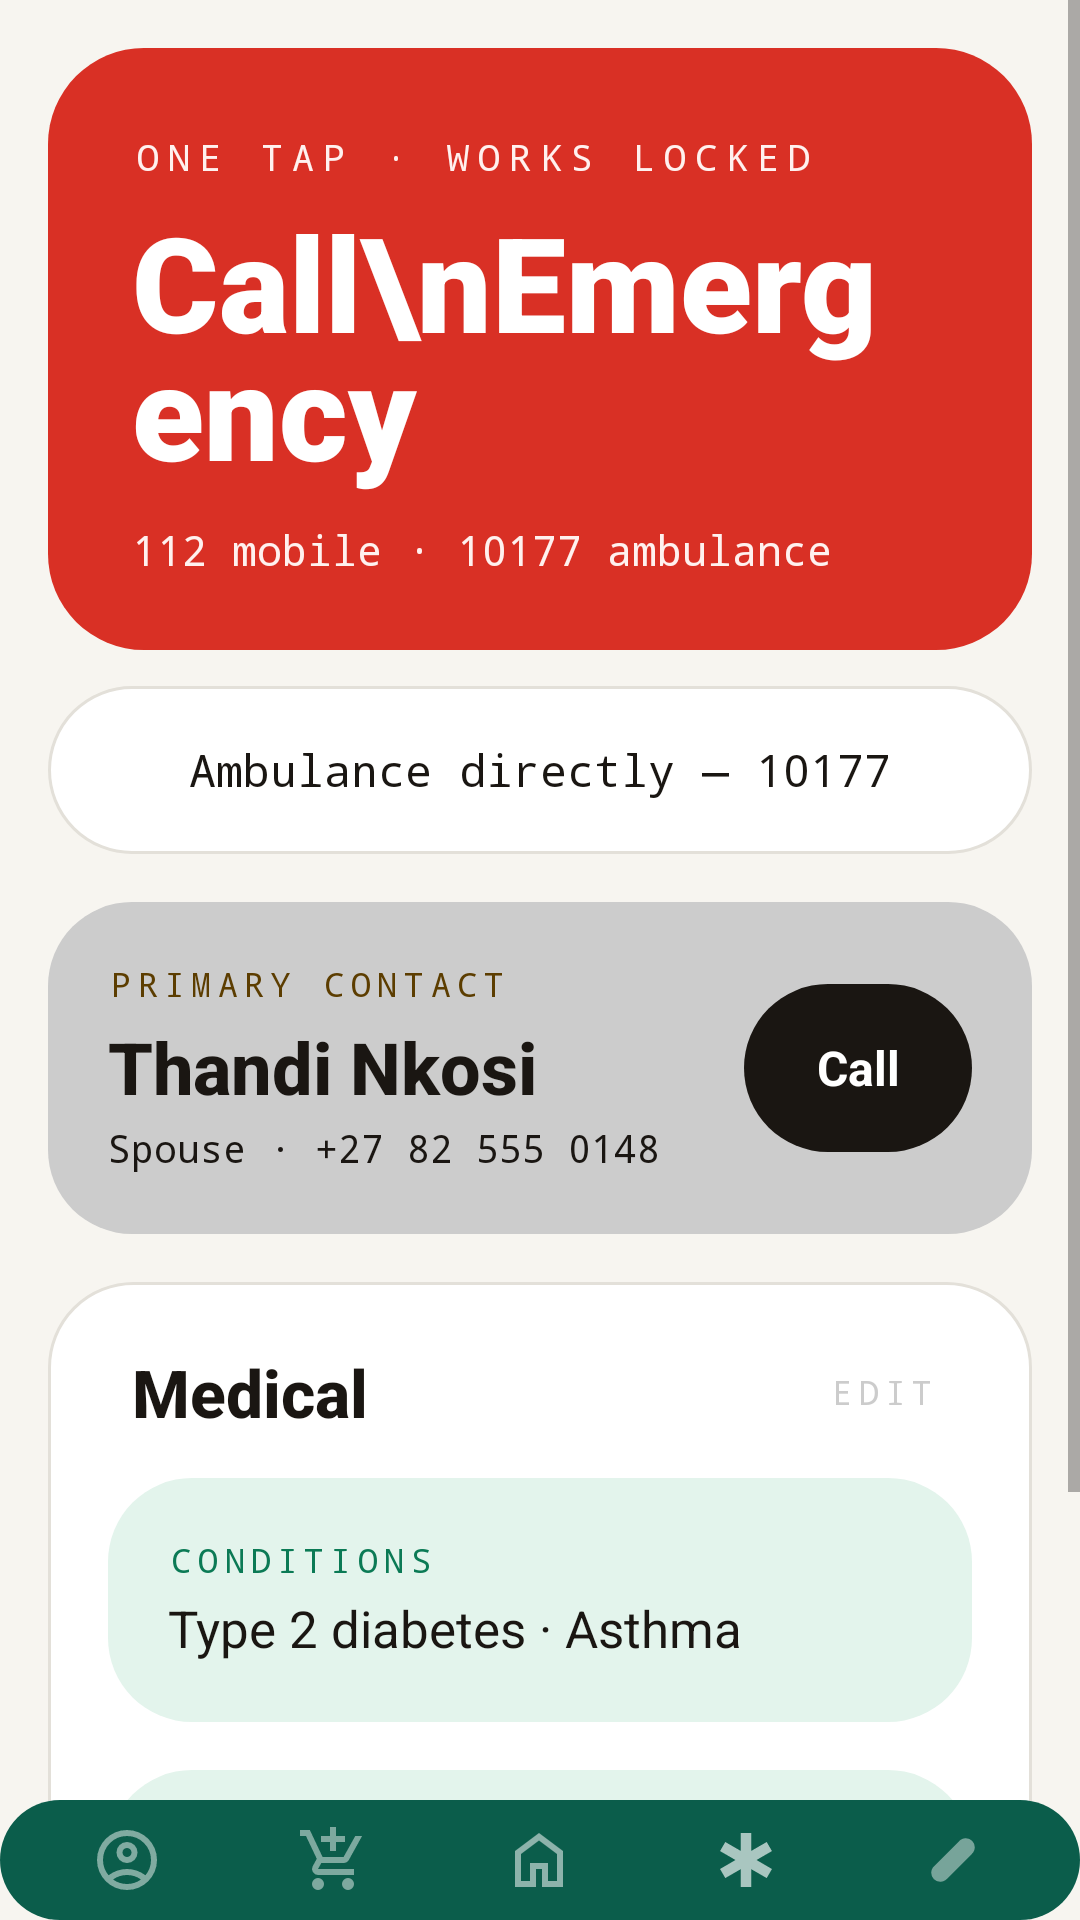

Screen size 1080w x 1920h. Icon name, then its box in pixels as [x1, y1, x2, y2]:
account circle: [97, 1830, 157, 1890]
Emergency: [720, 1833, 772, 1887]
home: [515, 1833, 563, 1887]
